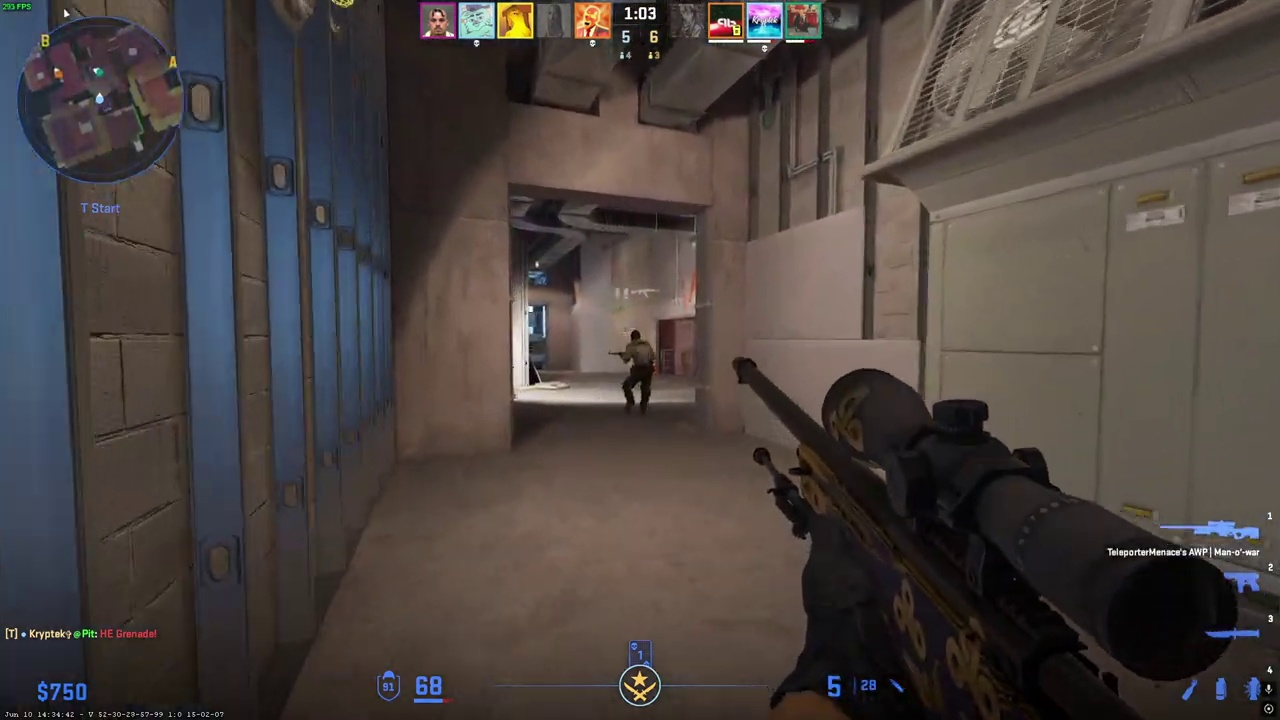Terrorist: (620, 329, 654, 415)
